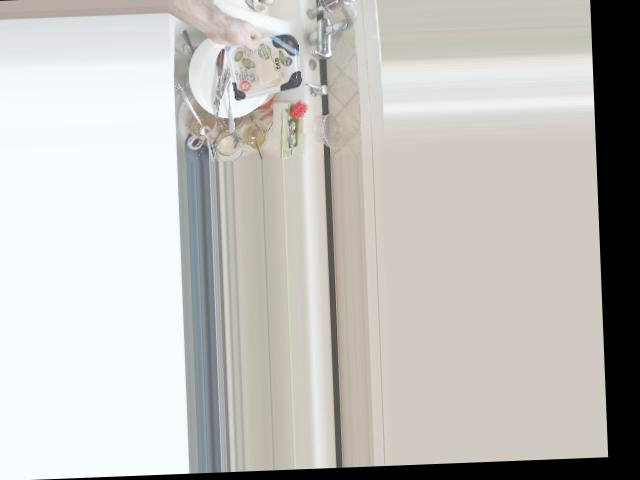cheese: (213, 14, 307, 98)
